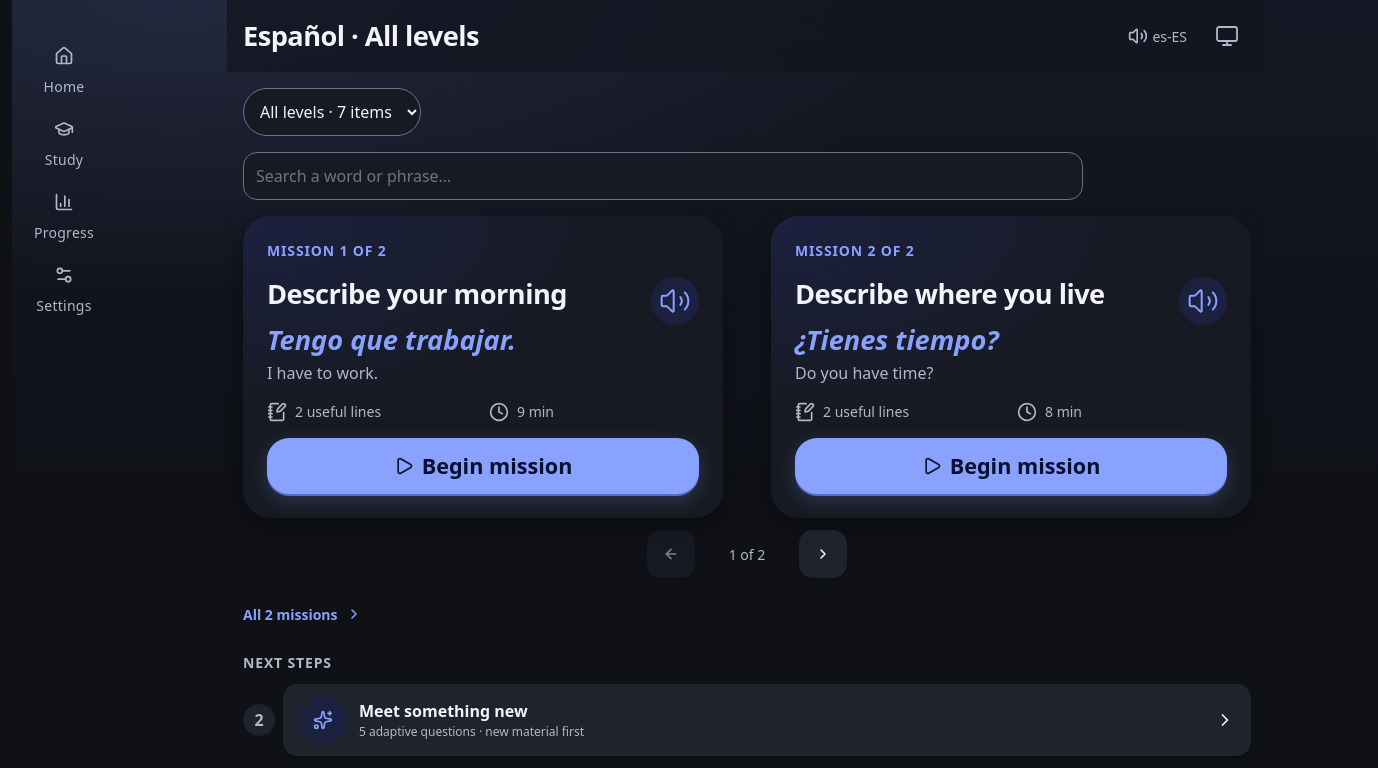
Scenario: HomeScreen › starts the recommended mission journey in the current course
Click the button with aria-label "Begin Describe your morning": (483,466) [267,438,699,494]
(page scrolled)
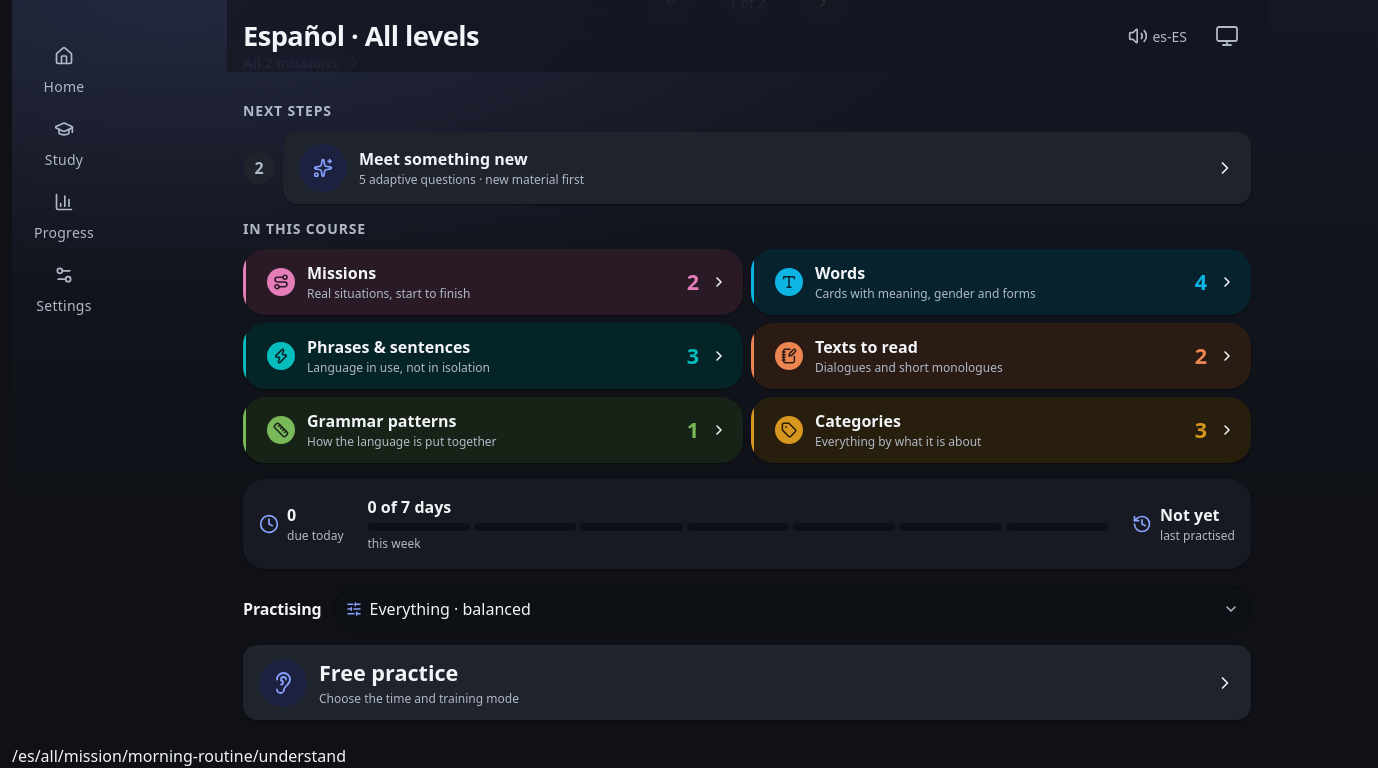
expect the text with test id "where" reads "/es/all/mission/morning-routine/understand": met, box [12,745,346,767]
